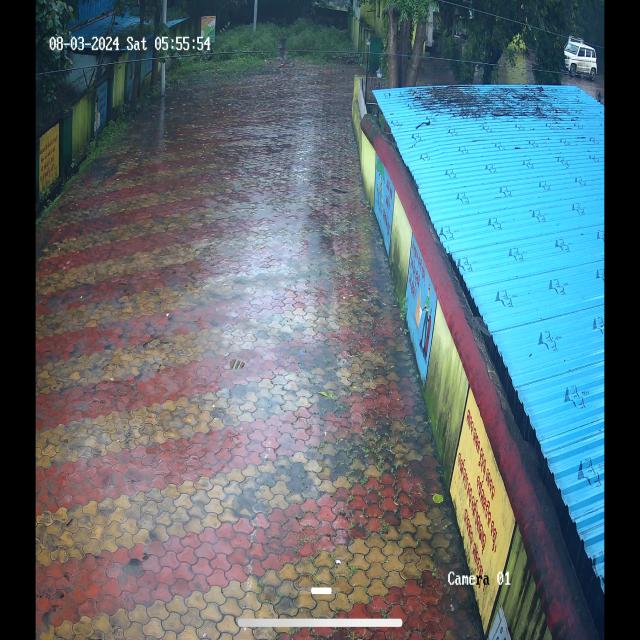light_vehicle: (563, 35, 598, 76)
